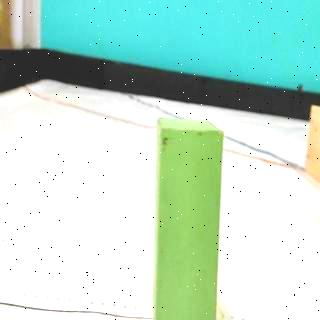greenbox: (155, 115, 225, 320)
